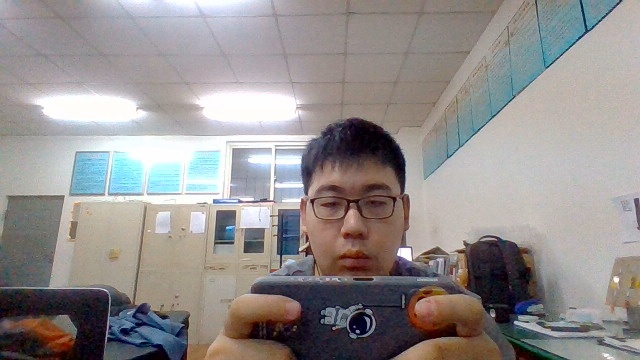playing: (202, 122, 464, 353)
